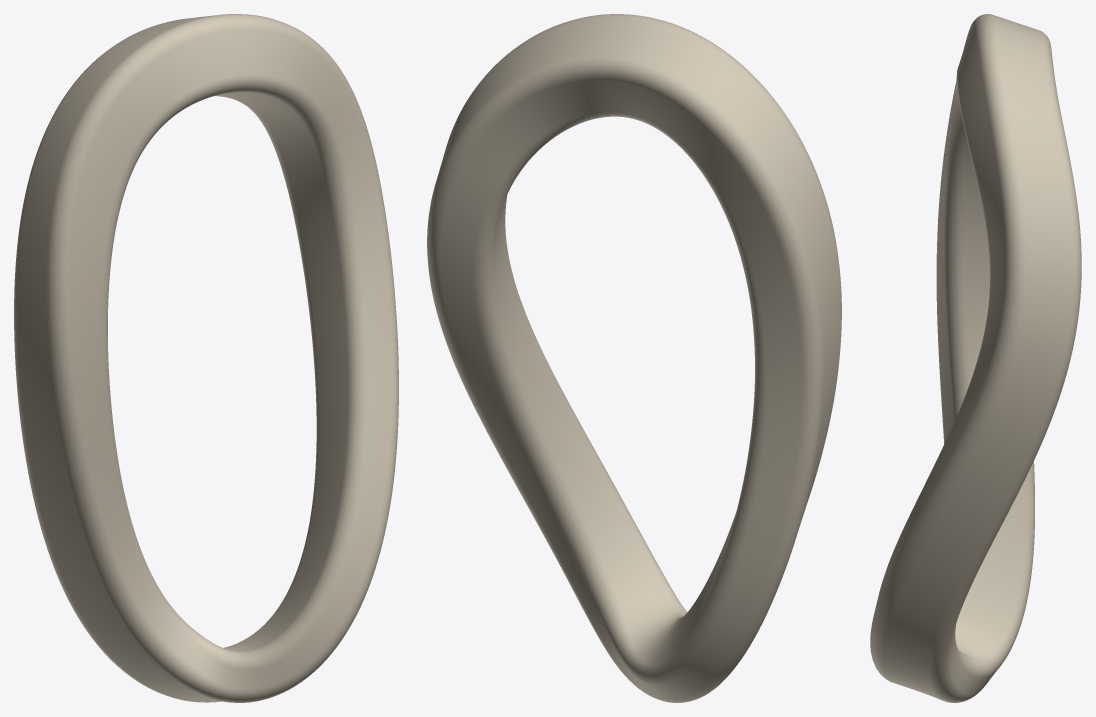
The picture shows the model from 3 angles, left to right: view 1: azimuth 30°, elevation 25°; view 2: azimuth 150°, elevation 25°; view 3: azimuth 270°, elevation 25°; orthographic projection. The views are drawn at different scales.
Parts seen in each view (by area): view 1: ORISON | continuous closed sweep; view 2: ORISON | continuous closed sweep; view 3: ORISON | continuous closed sweep.
Part boxes in pixels (left/top/right/bottom): ORISON | continuous closed sweep: left=14, top=14, right=398, bottom=702; ORISON | continuous closed sweep: left=427, top=14, right=841, bottom=702; ORISON | continuous closed sweep: left=870, top=14, right=1081, bottom=702.
Size of the model in its own units: 0.2576 by 0.4475 by 0.1295.
